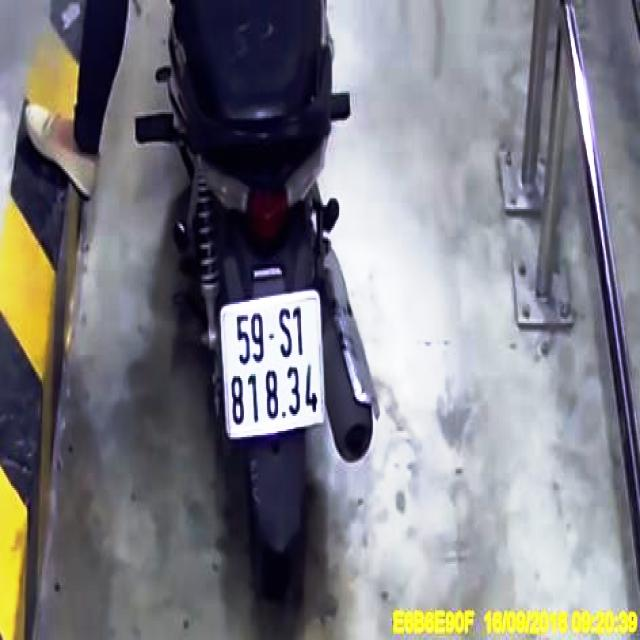license_plate: (224, 295, 327, 436)
